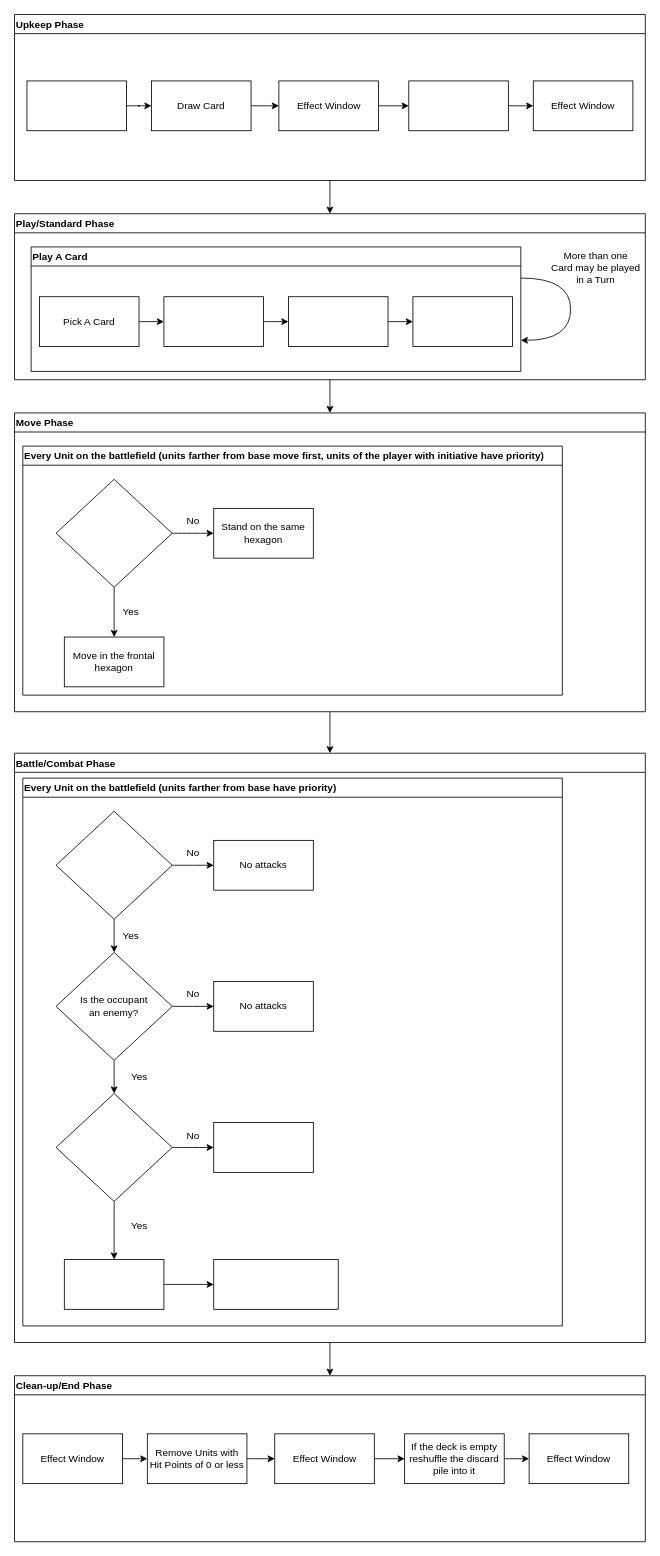
The diagram is 660 pixels wide and 1556 high, and some of its shapes have lost their labels. Each missing label, with the centre of its shape:
"Are there any hexagons included in the attack pattern occupied?" goes at point 113,864.
"Change Player holding Initiative" goes at point 76,105.
"Compare the unit's attack with the occupant's defense" goes at point 113,1284.
"Deal damage to the enemy base" goes at point 263,1147.
"Deal the minimum damage + max(0, atk-def)" goes at point 275,1284.
"Gain Mana" goes at point 458,105.
"Is the frontal hexagon empty (no units or enemy base)?" goes at point 113,532.
"Is the occupant an enemy unit or building?" goes at point 113,1147.
"Pay the Card's Cost" goes at point 213,321.
"The Card is moved to the Discard Pile" goes at point 462,321.
"The Card Takes Effect" goes at point 338,321.
